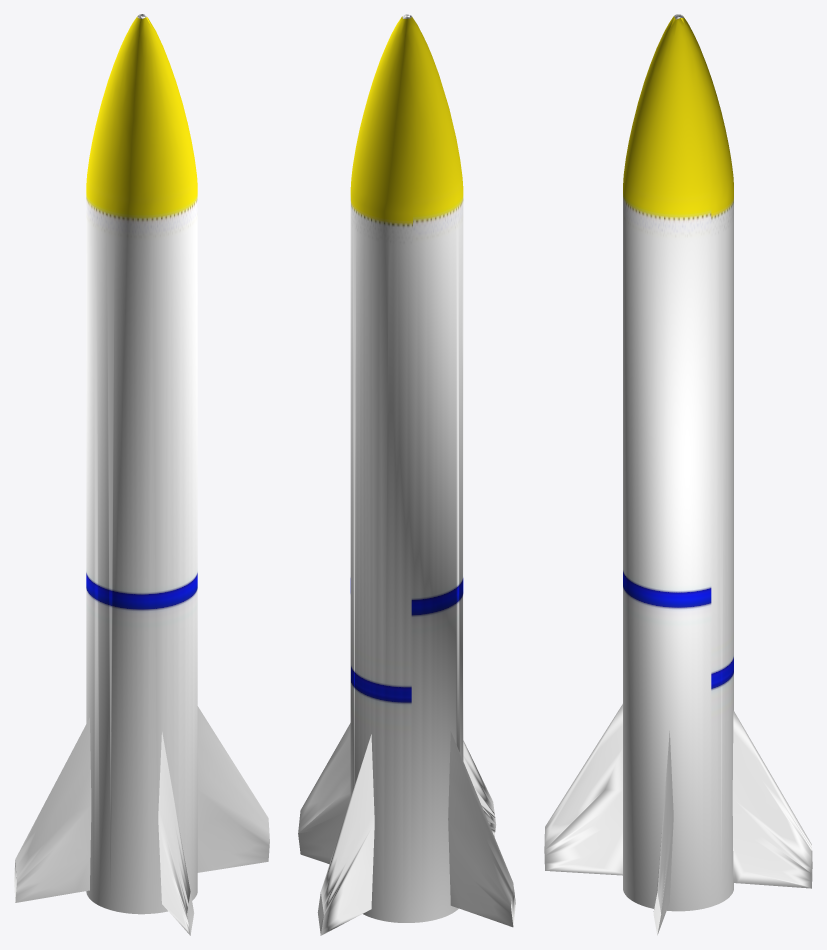
Rendered from HOT-D_001.obj.
3 renders of one model, left to right at view 1: azimuth 30°, elevation 25°; view 2: azimuth 150°, elevation 25°; view 3: azimuth 270°, elevation 25°, orthographic.
Parts seen in each view (by area): view 1: object1_2_0; view 2: object1_2_0; view 3: object1_2_0.
Boxes of the visible parts, bbox=[...] form: object1_2_0: bbox=[14, 14, 269, 935]; object1_2_0: bbox=[298, 14, 515, 935]; object1_2_0: bbox=[544, 14, 812, 935].
Size of the model in its own units: 0.2784 by 1 by 0.2784.
1 material, 1 textured.
